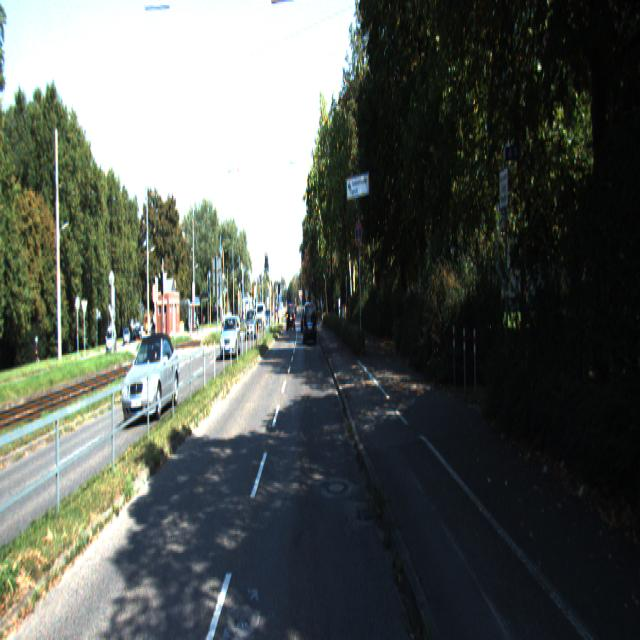Car: (121, 325, 181, 424), (220, 314, 241, 360), (304, 302, 318, 346)
DontCare: (245, 290, 273, 345), (284, 293, 298, 336), (105, 316, 116, 356)
